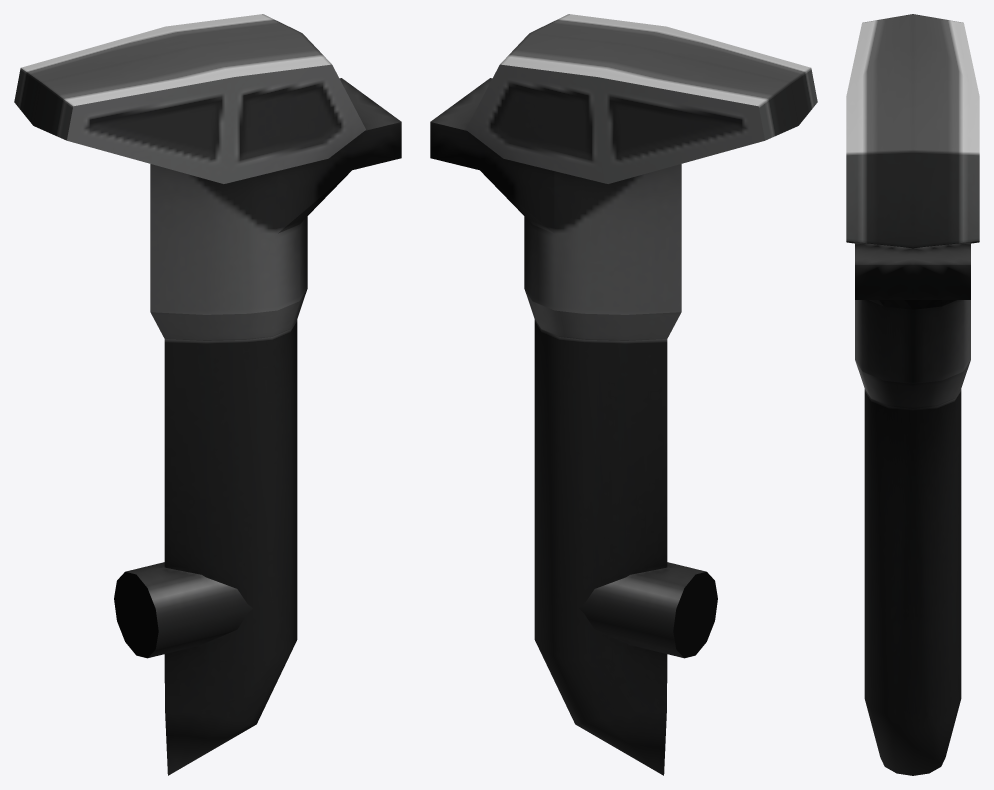
The model's file is engine.dae.
3 renders of one model, left to right at view 1: azimuth 30°, elevation 25°; view 2: azimuth 150°, elevation 25°; view 3: azimuth 270°, elevation 25°, orthographic. The views are drawn at different scales.
Parts seen in each view (by area): view 1: Engine_Left; view 2: Engine_Left; view 3: Engine_Left.
Part boxes in pixels (left/top/right/bottom): Engine_Left: left=14, top=14, right=401, bottom=775; Engine_Left: left=430, top=14, right=817, bottom=775; Engine_Left: left=846, top=14, right=979, bottom=775.
Size of the model in its own units: 0.443 by 0.1566 by 0.9065.
